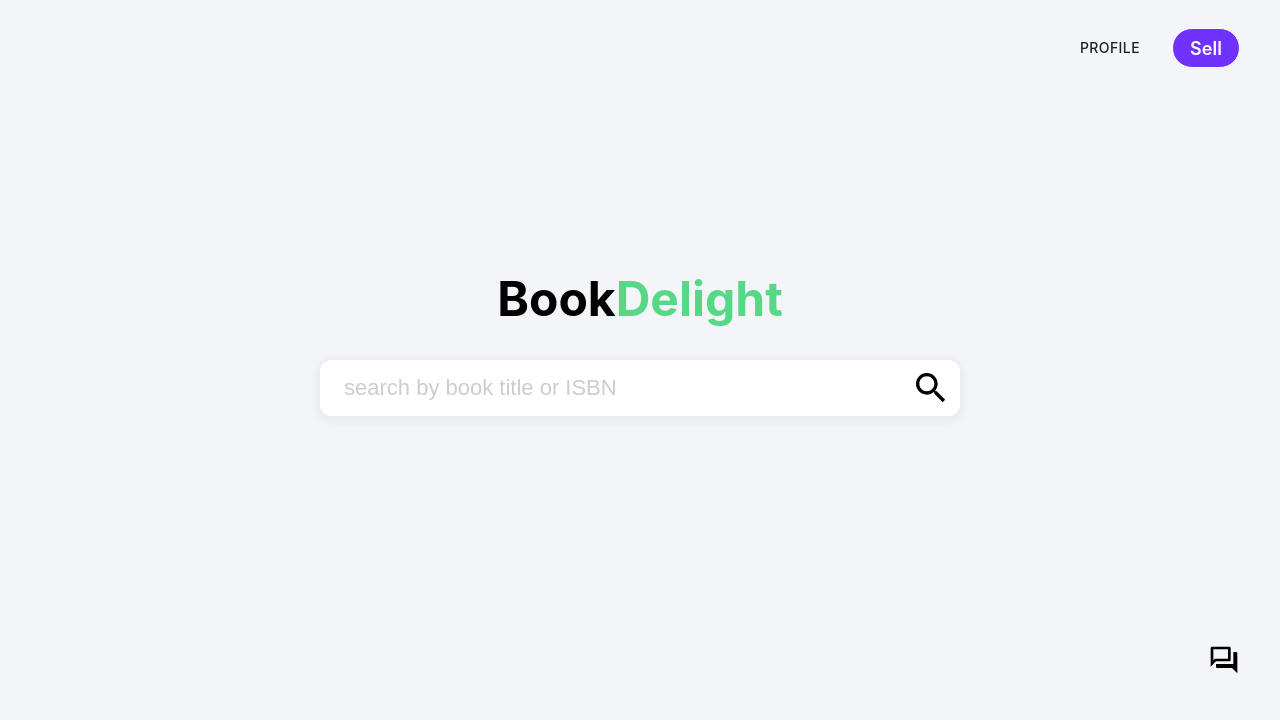
upload photo navigating to detail form
This screenshot has width=1280, height=720.
Expected: the text "Book" is shown, [497,269,616,328]
Expected: the text "Delight" is shown, [616,269,783,328]
Click the text "Sell".
click(1206, 48)  # box [1172,28,1240,68]
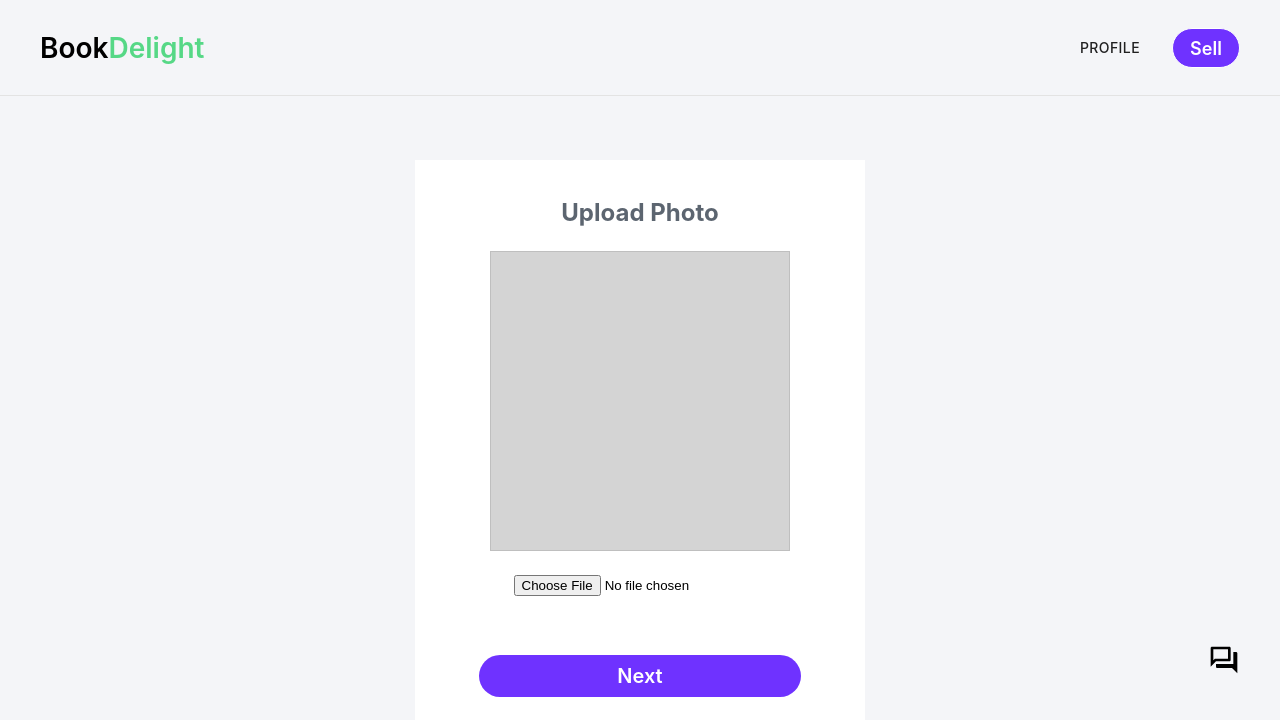
Result: the heading "Upload Photo" is shown at [561,198,719,227]
Click the text "Next".
click(640, 676)  # box [479,655,801,697]
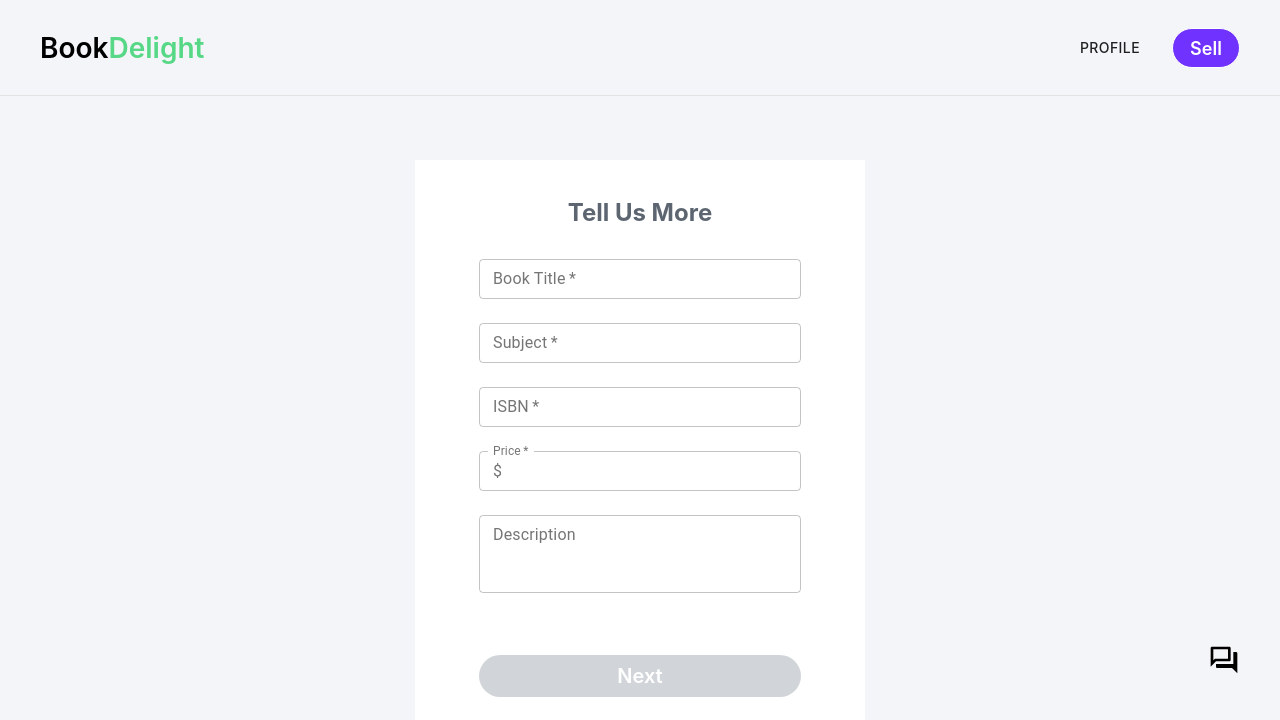
Result: the heading "Tell Us More" is shown at [568,198,712,227]
